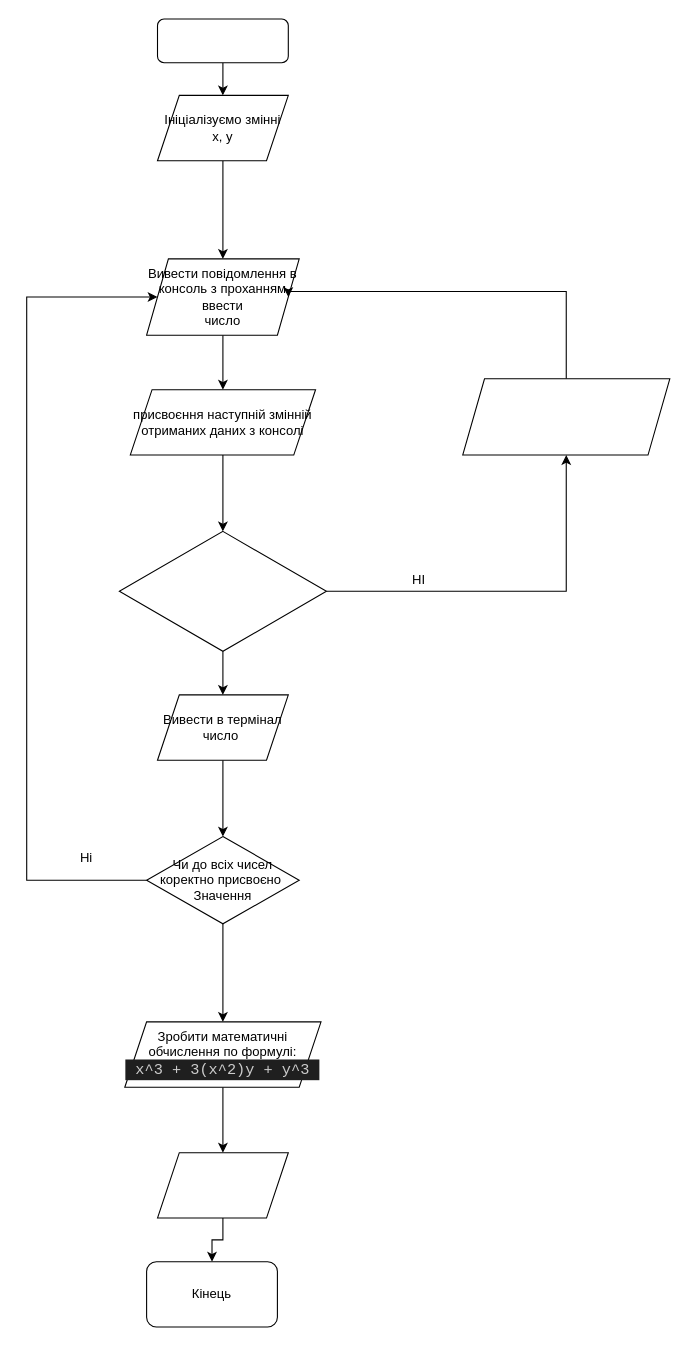
Image size: 689x1346. Some labels were removed from this diagram. Each missing label, with the box of its shape:
Введені дані є вірними? (Є числом?): (118, 530, 326, 651)
Вивести отримане число: (156, 1152, 288, 1218)
Вивести повідомлення про некоректність даних: (462, 378, 670, 455)
Початок: (156, 18, 288, 63)
